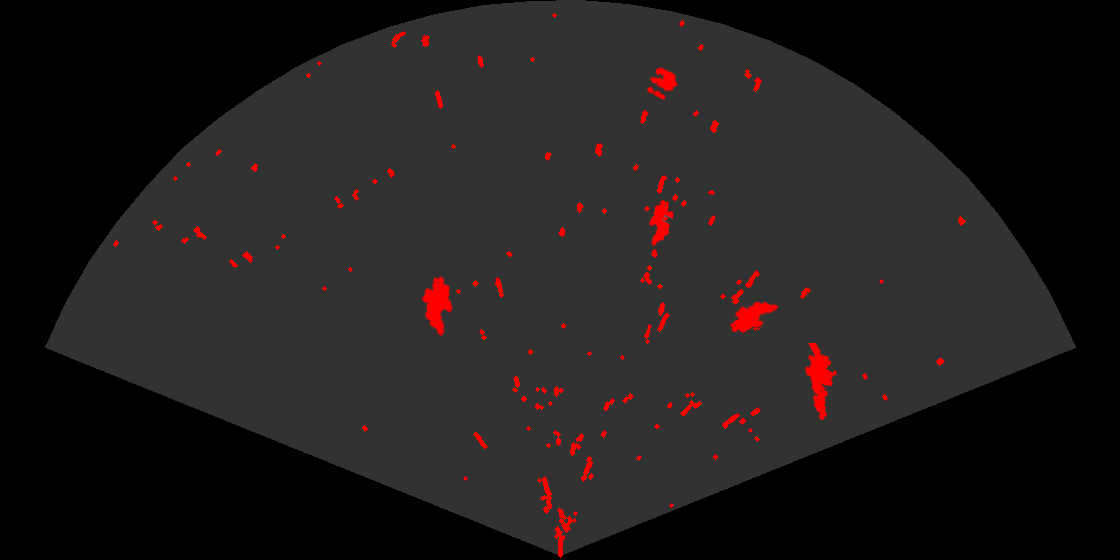AUV: (420, 274, 454, 338), (728, 300, 780, 335), (648, 198, 675, 248)
ball: (645, 66, 679, 101)
frogman: (803, 343, 838, 422)
